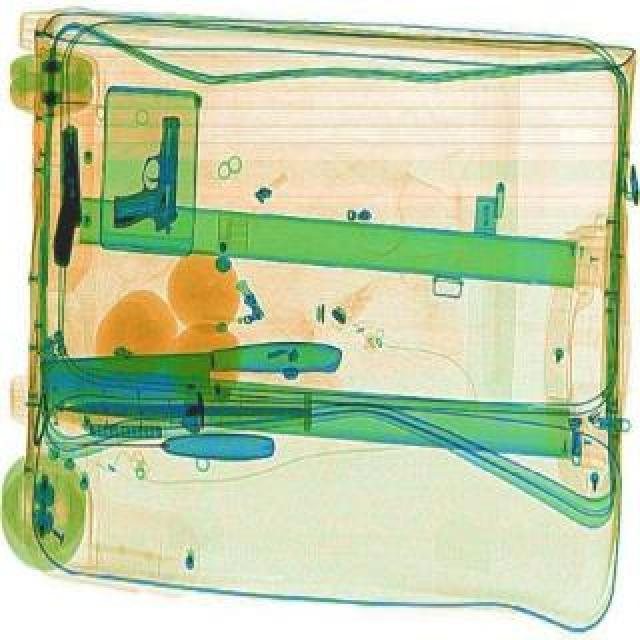gun: (110, 120, 182, 238), (50, 126, 86, 270)
knife: (38, 344, 342, 414), (44, 434, 272, 464), (62, 404, 306, 424)
